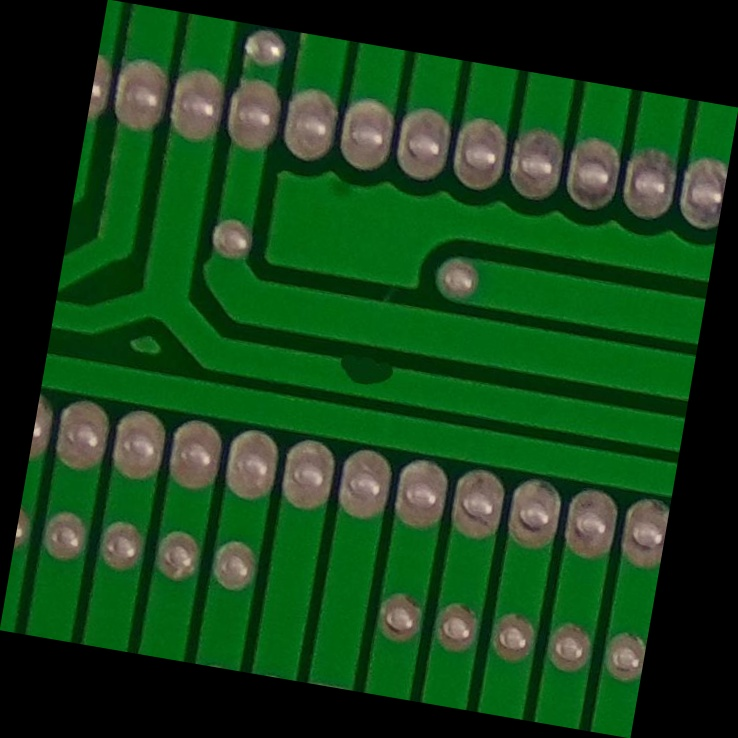mouse_bite: (323, 334, 416, 404)
